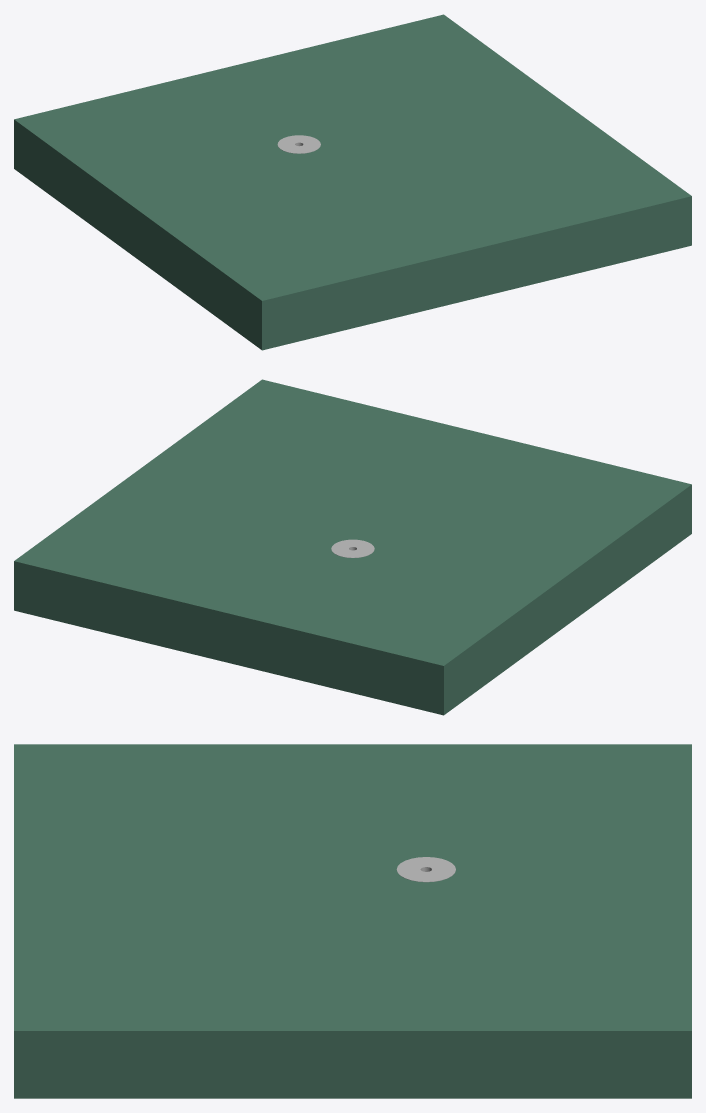
The model's file is slab_A1_lin120.glb.
The picture shows the model from 3 angles, top to bottom: view 1: azimuth 30°, elevation 25°; view 2: azimuth 150°, elevation 25°; view 3: azimuth 270°, elevation 25°; orthographic projection. The views are drawn at different scales.
Parts seen in each view (by area): view 1: =>[0:1:1:3], =>[0:1:1:2]; view 2: =>[0:1:1:3], =>[0:1:1:2]; view 3: =>[0:1:1:3], =>[0:1:1:2].
Part boxes in pixels (box(x1,y1,x2,y2)): =>[0:1:1:3]: box(14, 14, 691, 350); =>[0:1:1:2]: box(277, 135, 320, 153); =>[0:1:1:3]: box(14, 379, 691, 715); =>[0:1:1:2]: box(331, 539, 374, 557); =>[0:1:1:3]: box(14, 744, 691, 1098); =>[0:1:1:2]: box(396, 857, 455, 882).
Bounding box in the file's own units: 0.08 × 0.00888 × 0.08.
